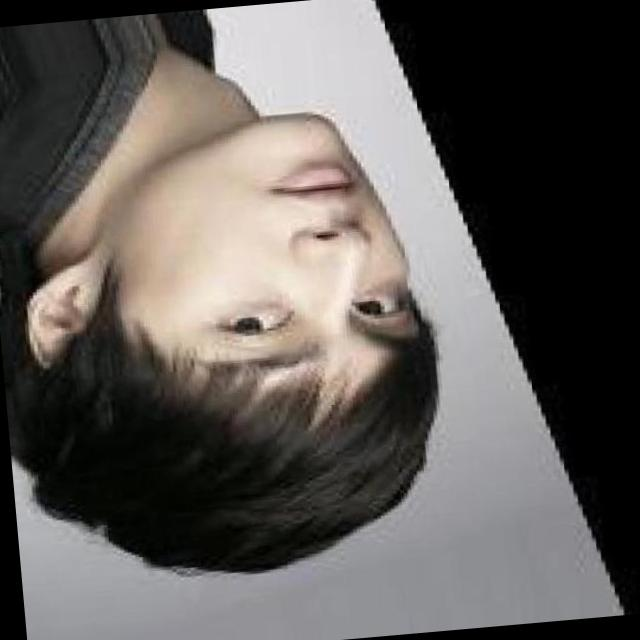bareface: (7, 84, 473, 578)
